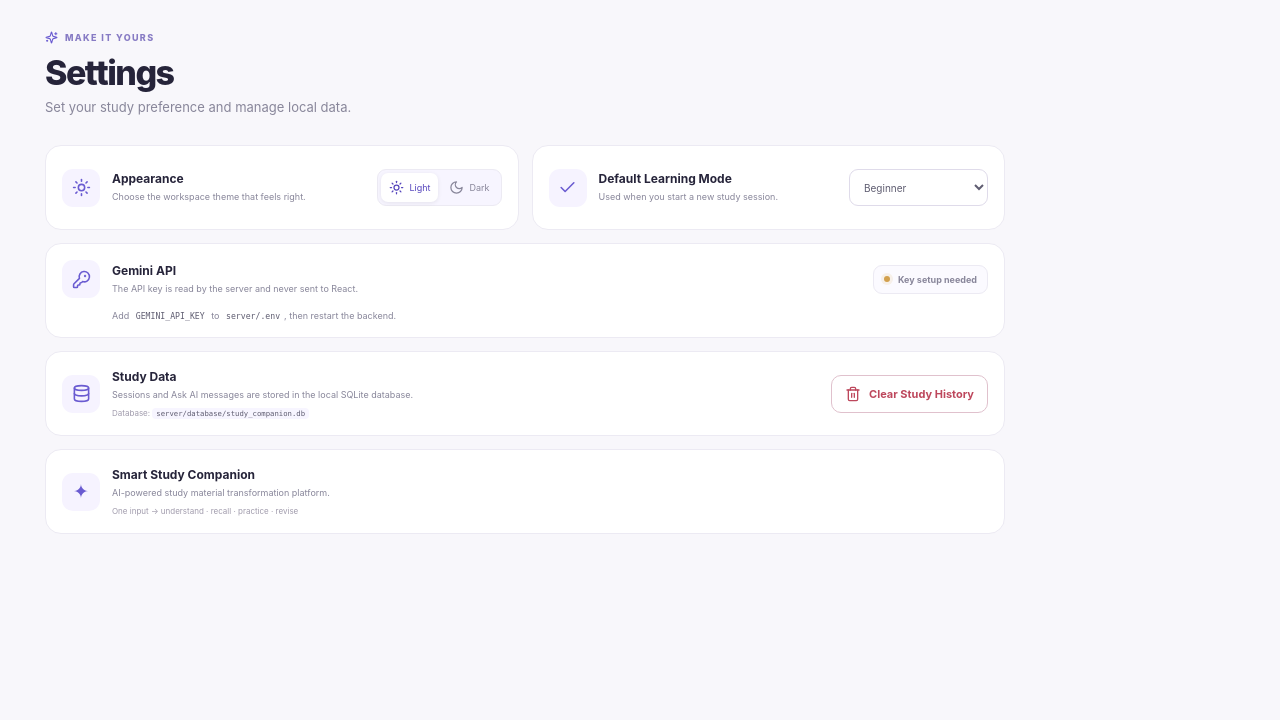
Test: working interactive controls › saves learning preferences and clears study data from Settings
This screenshot has width=1280, height=720.
Select "Exam Revision" in the dropdown named "Default learning mode" at (918, 188), box [849,169,988,206]
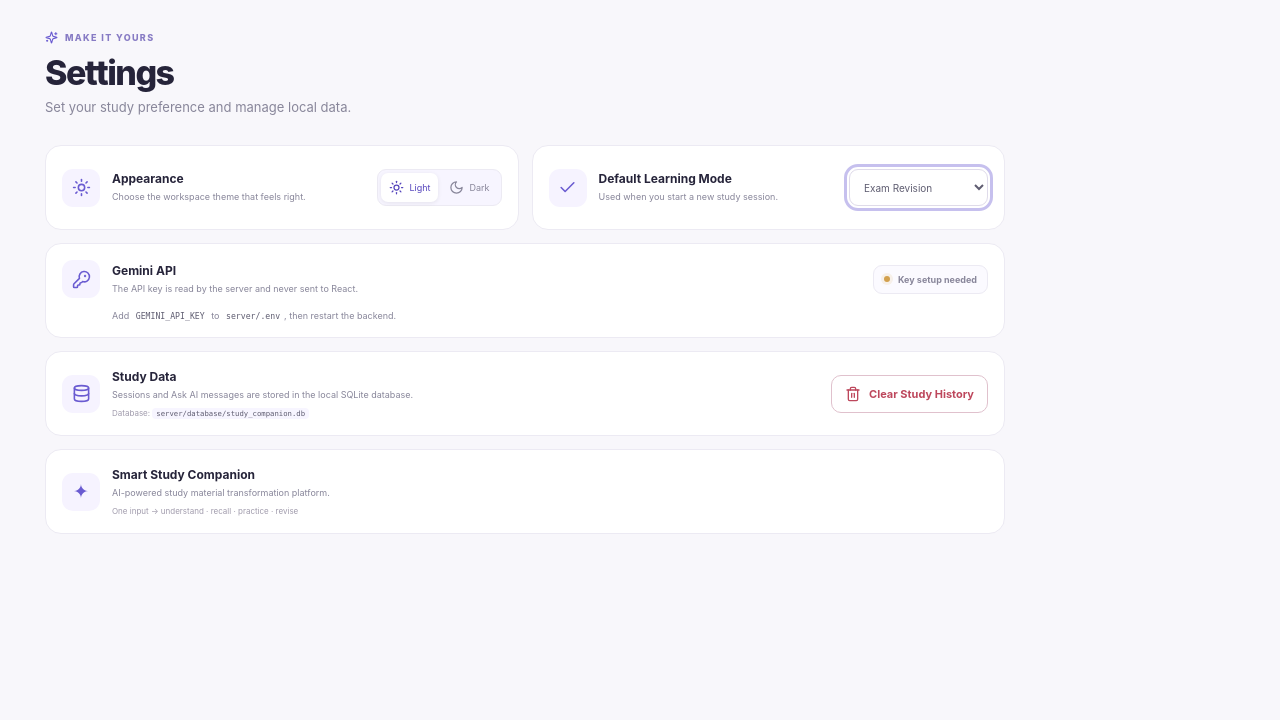
Click the button "Dark" at (470, 188), box [442,173,498,202]
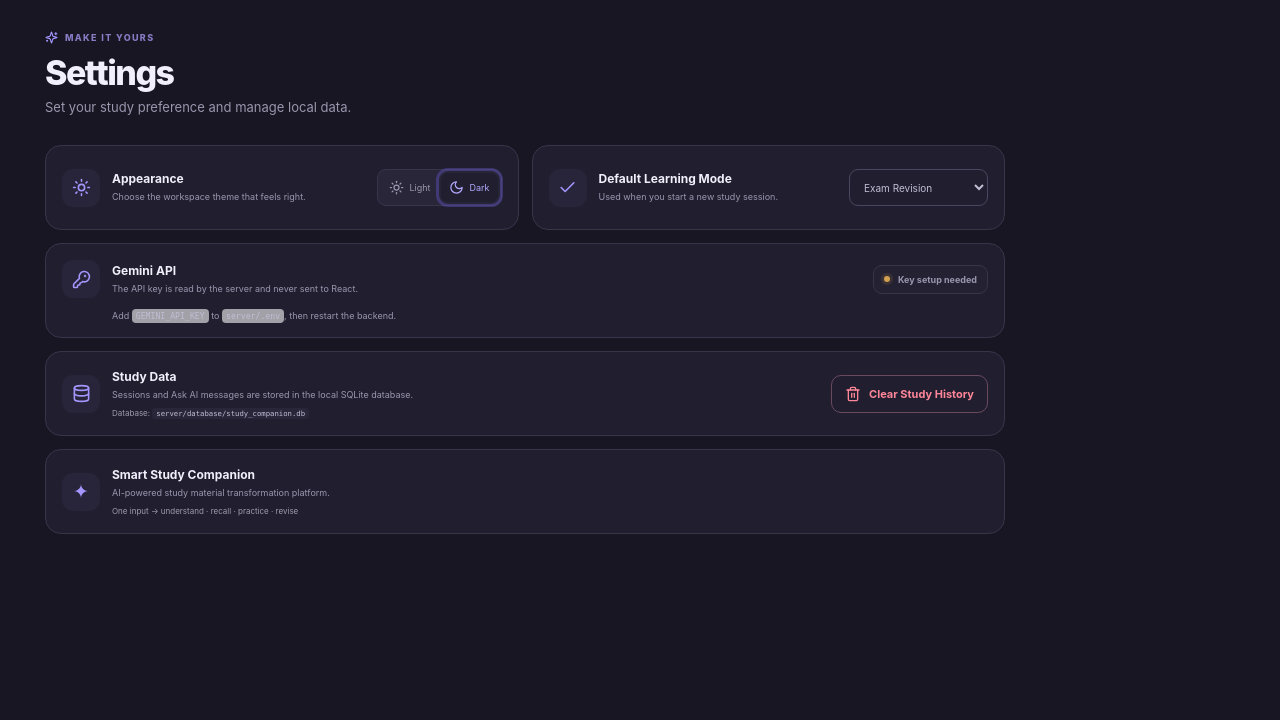
Click the button "Clear Study History" at (910, 394), box [831,375,988,413]
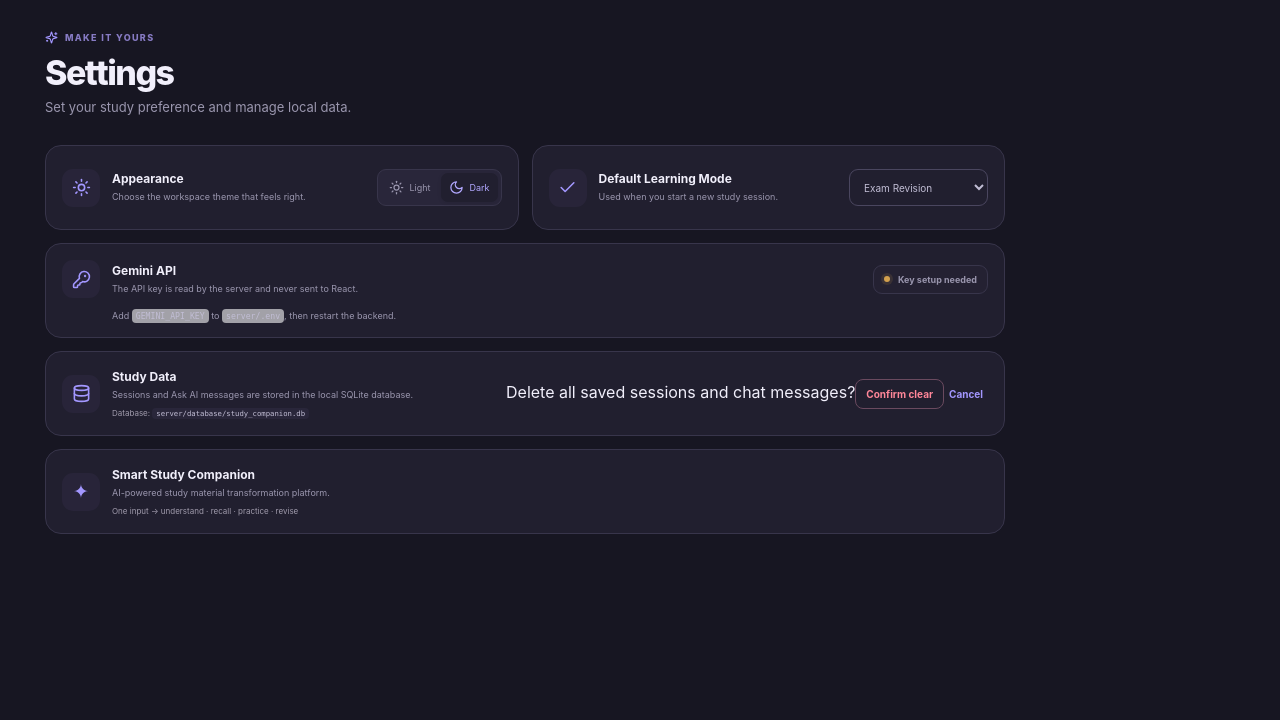
Click the button "Confirm clear" at (900, 394), box [855,379,944,409]
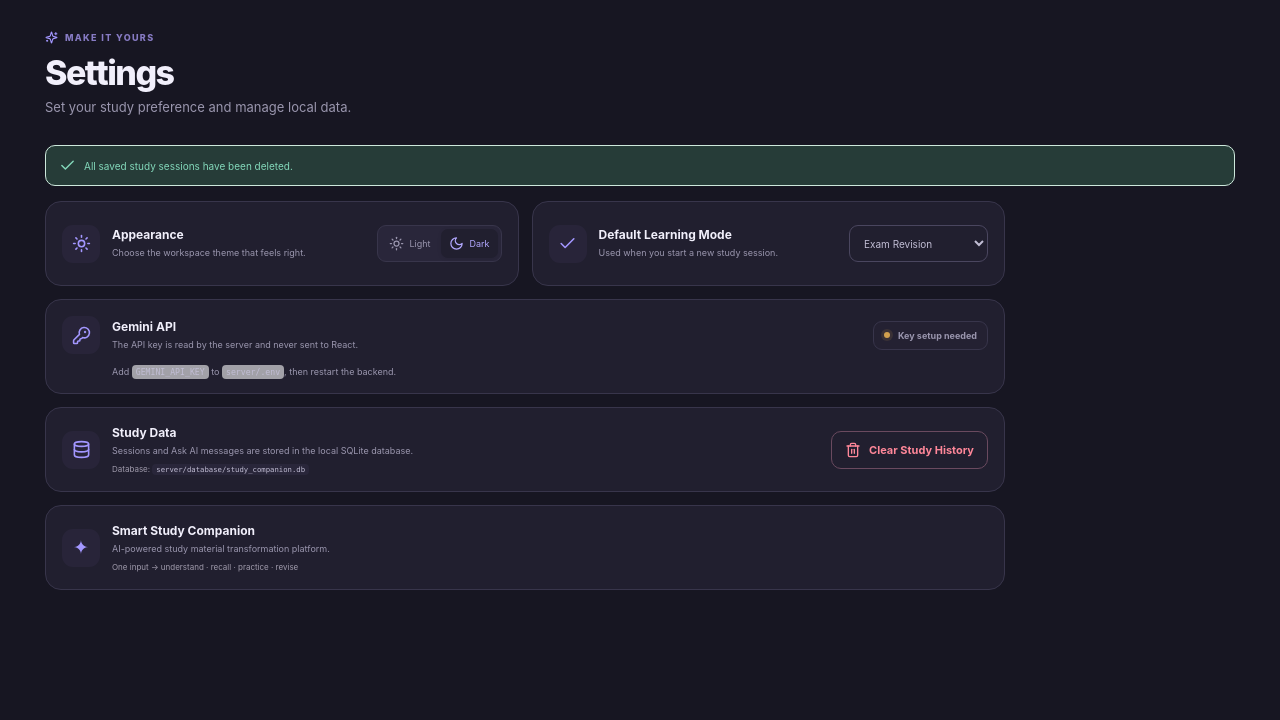
expect the text "All saved study sessions have been deleted." is shown: met, box [45,145,1235,186]
